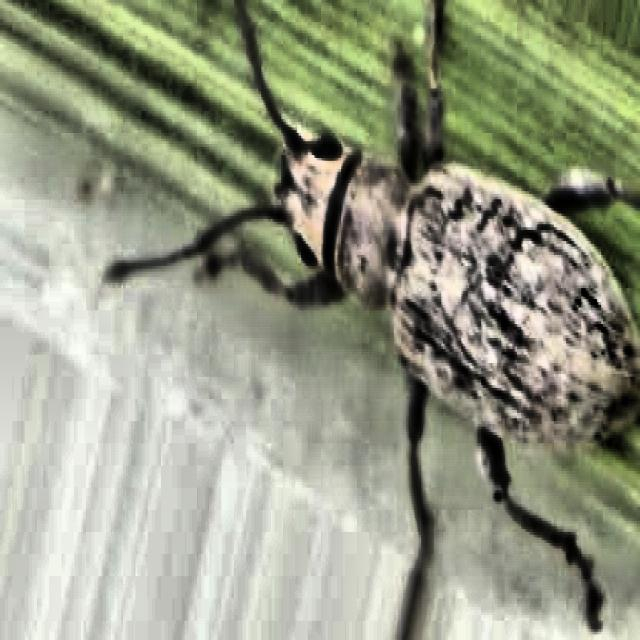Stink bug: (206, 65, 640, 541)
